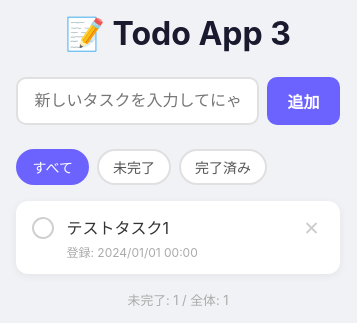
it: TodoApp › Todo削除（楽観的更新） › 削除ボタンクリックでTodoがリストから即座に消える
The image size is (357, 323).
Expected: the text "テストタスク1" is shown, x1=66 y1=218 x2=169 y2=238
Click the button titled "削除". click: point(311, 229)
box: x1=299 y1=215 x2=324 y2=242
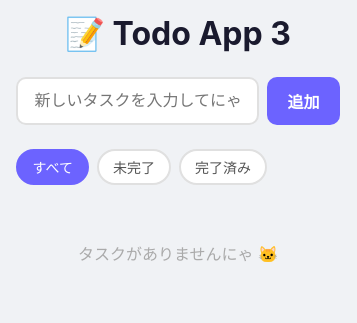
Result: the text "テストタスク1" is gone
